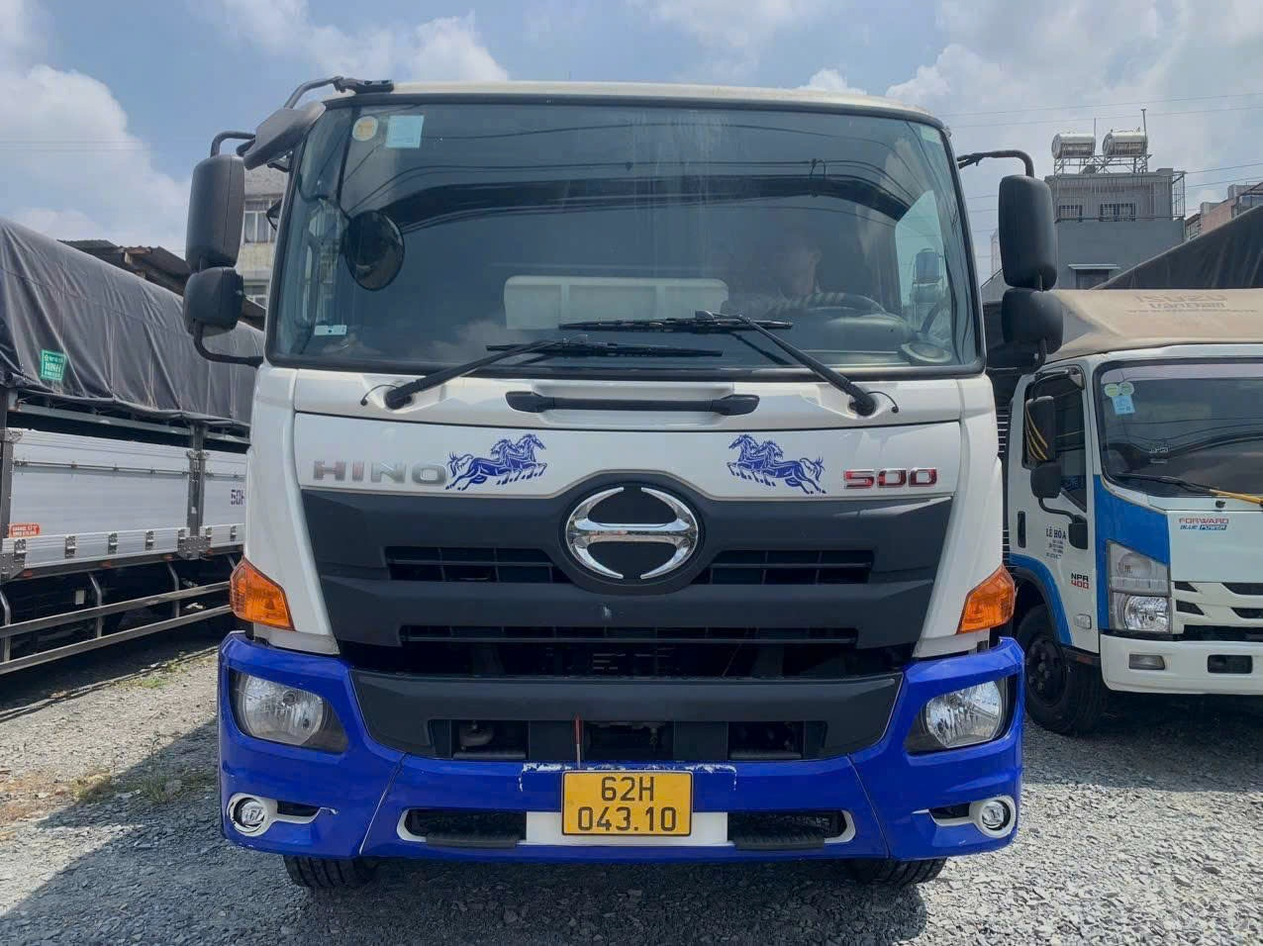Bien-so: (553, 753, 690, 833)
